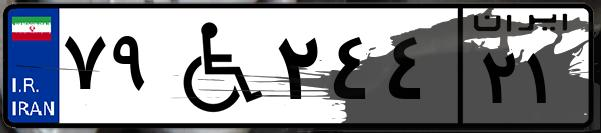1: (525, 38, 570, 115)
2: (270, 28, 330, 110), (475, 38, 525, 113)
4: (385, 28, 445, 110), (330, 28, 385, 110)
7: (57, 26, 110, 100)
9: (110, 28, 158, 98)
ژ (معلولین و جانبازان): (158, 12, 270, 120)
